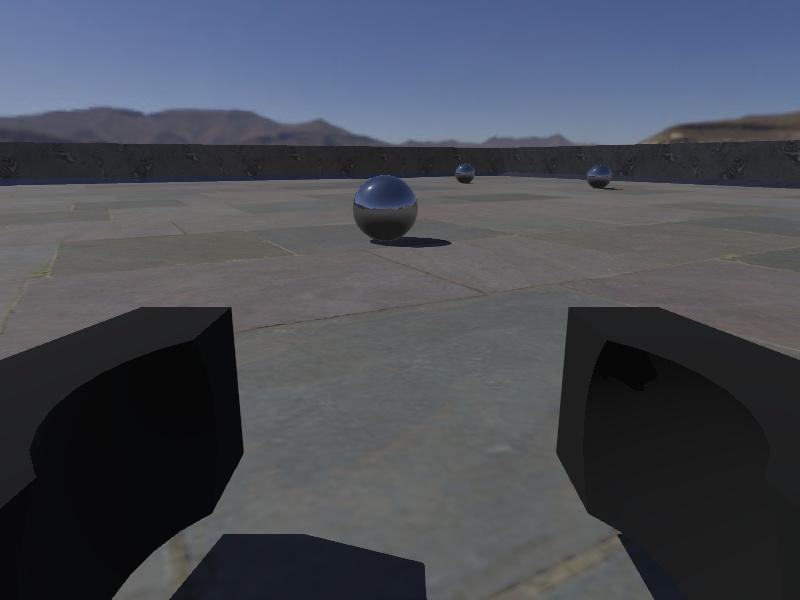steel ball: (352, 173, 418, 243), (585, 163, 612, 189), (454, 162, 476, 184)
